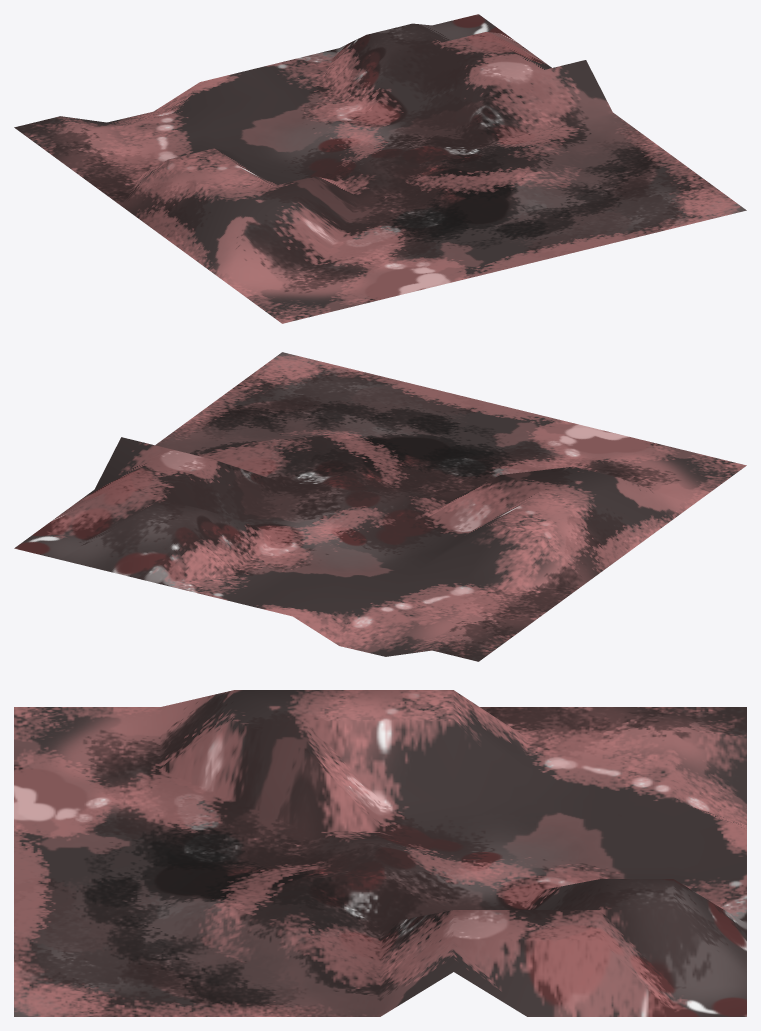
File: Floor_below_cave.fbx
The picture shows the model from 3 angles, top to bottom: view 1: azimuth 30°, elevation 25°; view 2: azimuth 150°, elevation 25°; view 3: azimuth 270°, elevation 25°; orthographic projection. The views are drawn at different scales.
Visible parts, largest first — view 1: floor; view 2: floor; view 3: floor.
Boxes of the visible parts, x1=… form: floor: x1=14, y1=14, x2=746, y2=323; floor: x1=14, y1=352, x2=746, y2=661; floor: x1=14, y1=690, x2=746, y2=1016.
Size of the model in its own units: 2827 by 310 by 2827.
Materials: 1 (1 with a texture image).
